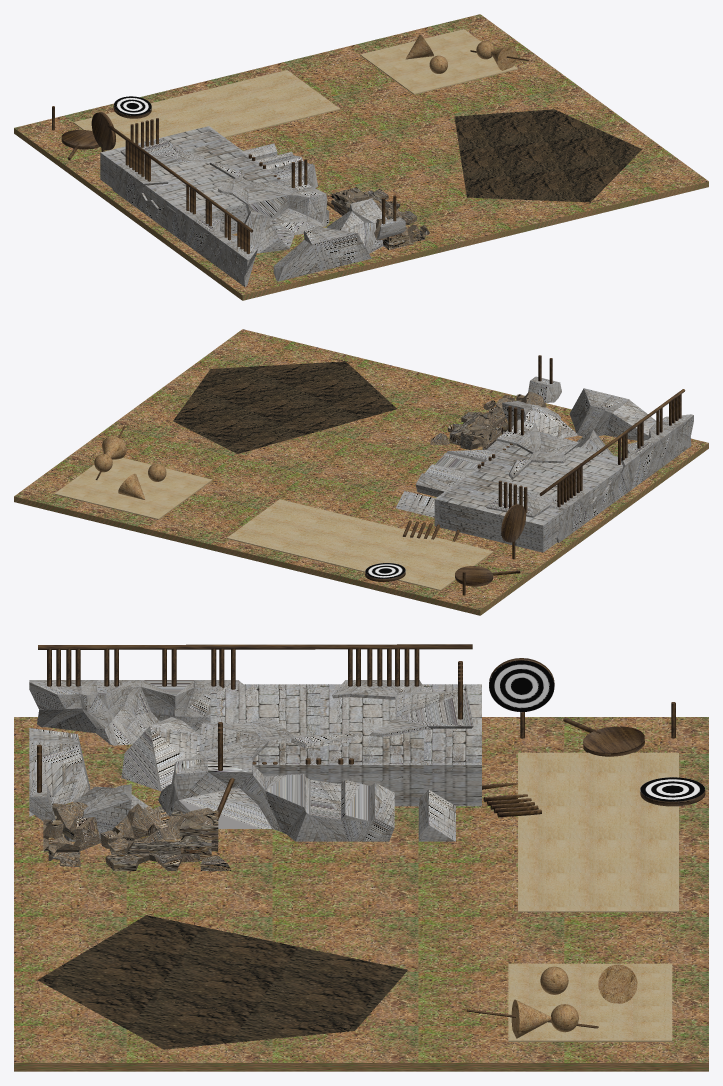
The model's file is Hittites_Academy_Semidemolished.fbx.
3 renders of one model, top to bottom at view 1: azimuth 30°, elevation 25°; view 2: azimuth 150°, elevation 25°; view 3: azimuth 270°, elevation 25°, orthographic. The views are drawn at different scales.
Parts seen in each view (by area): view 1: Cube, Cylinder.134, Cube.002, Cube.003, Cube.004, Cube.001_cell.064, Cube.001_cell.079, Cube.001_cell.075, Cube.001_cell.096, Cube.001_cell.082, Cube.001_cell.059, Cube.001_cell.090 (+9 smaller); view 2: Cube, Cylinder.134, Cube.002, Cube.003, Cube.004, Cube.001_cell.075, Cube.001_cell.082, Cube.001_cell.054, Cube.001_cell.094, Cube.001_cell.096, Cylinder.003, Cube.001_cell (+7 smaller); view 3: Cube, Cylinder.134, Cube.002, Cube.003, Cube.004, Cube.001_cell.064, Cylinder.003, Cube.001_cell.096, Cube.001_cell.094, Cylinder.129, Cube.001_cell.014, Cube.001_cell.027 (+25 smaller).
Part boxes in pixels (<box>): Cube: <box>14,14,708,300</box>; Cylinder.134: <box>454,109,642,204</box>; Cube.002: <box>73,70,340,149</box>; Cube.003: <box>100,126,282,234</box>; Cube.004: <box>360,29,517,94</box>; Cube.001_cell.064: <box>244,210,294,253</box>; Cube.001_cell.079: <box>232,185,289,219</box>; Cube.001_cell.075: <box>273,240,319,281</box>; Cube.001_cell.096: <box>313,226,371,262</box>; Cube.001_cell.082: <box>303,228,352,271</box>; Cube.001_cell.059: <box>288,187,327,222</box>; Cube.001_cell.090: <box>273,208,323,235</box>; Cube: <box>14,329,708,615</box>; Cylinder.134: <box>173,358,396,453</box>; Cube.002: <box>227,499,493,590</box>; Cube.003: <box>434,444,623,552</box>; Cube.004: <box>54,458,212,519</box>; Cube.001_cell.075: <box>604,400,656,440</box>; Cube.001_cell.082: <box>575,395,629,436</box>; Cube.001_cell.054: <box>524,409,577,438</box>; Cube.001_cell.094: <box>486,491,553,517</box>; Cube.001_cell.096: <box>569,388,612,427</box>; Cylinder.003: <box>501,504,526,542</box>; Cube.001_cell: <box>396,491,434,517</box>; Cube: <box>14,717,708,1071</box>; Cylinder.134: <box>36,915,407,1049</box>; Cube.002: <box>518,752,678,912</box>; Cube.003: <box>210,684,481,806</box>; Cube.004: <box>508,963,672,1041</box>; Cube.001_cell.064: <box>121,717,200,791</box>; Cylinder.003: <box>489,658,554,712</box>; Cube.001_cell.096: <box>29,740,82,816</box>; Cube.001_cell.094: <box>395,691,473,728</box>; Cylinder.129: <box>38,644,472,649</box>; Cube.001_cell.014: <box>166,788,271,828</box>; Cube.001_cell.027: <box>265,774,305,834</box>.
Bounding box in the file's own units: 1297 × 170 × 1101.
Materials: 9 (9 with a texture image).
